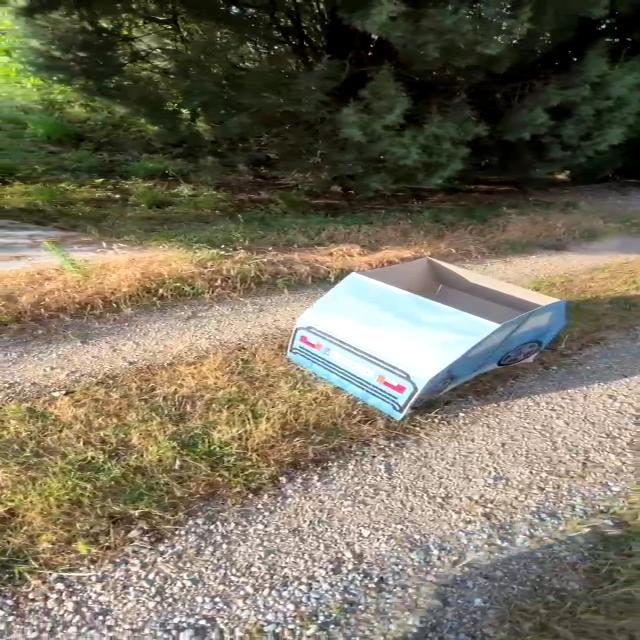blue_car: (244, 250, 605, 439)
